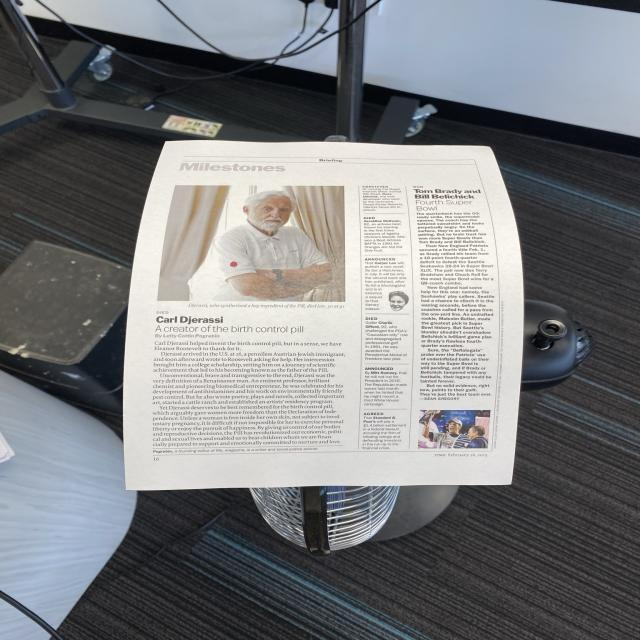document: (123, 140, 523, 490)
